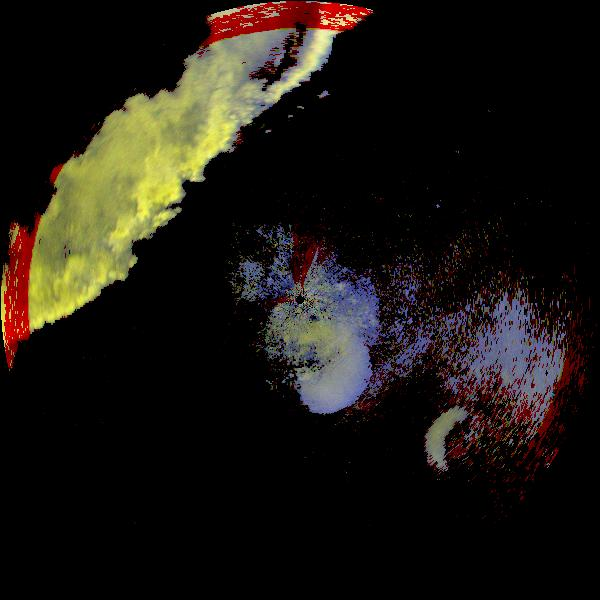roost: (243, 291, 393, 441), (411, 394, 513, 496)
